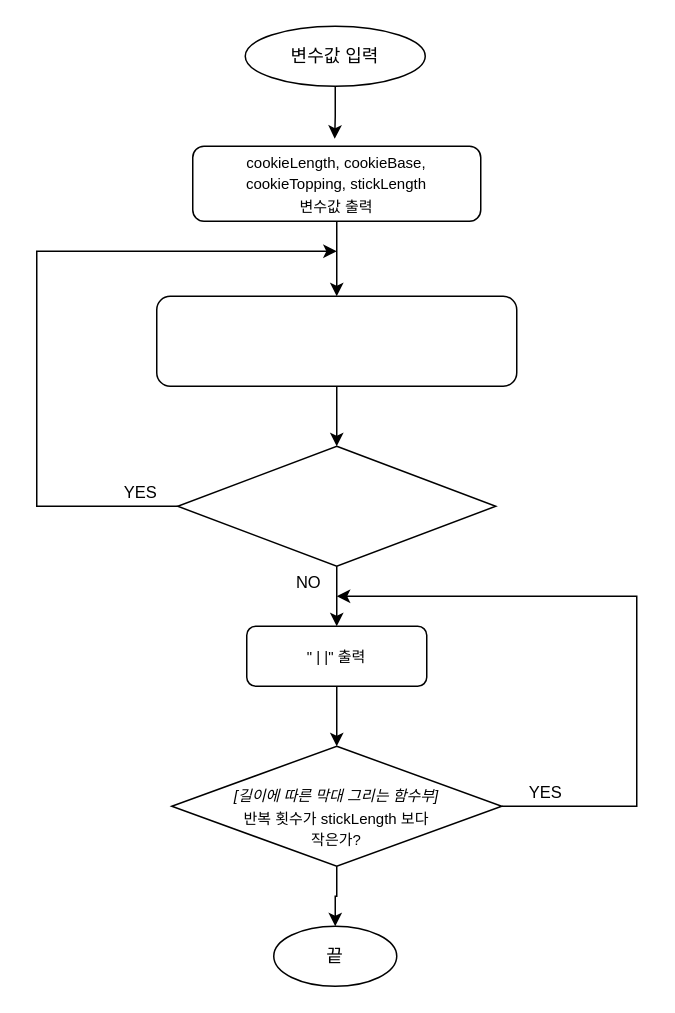
This 675x1013 diagram has some shape labels left out. The centre of each missing label's shape, as x and y in pixels:
[길이에 따른 몸통 그리는 함수부] 반복 횟수가 cookieLength 보다 작은가?: pixel 336 505
[토핑과 몸통을 그리는 함수부] \(cookieTopping) + \(cookieBase) + \(cookieTopping) 출력: pixel 336 340
